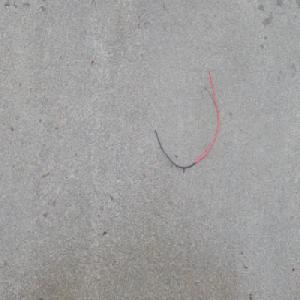Wire: (149, 61, 221, 170)
